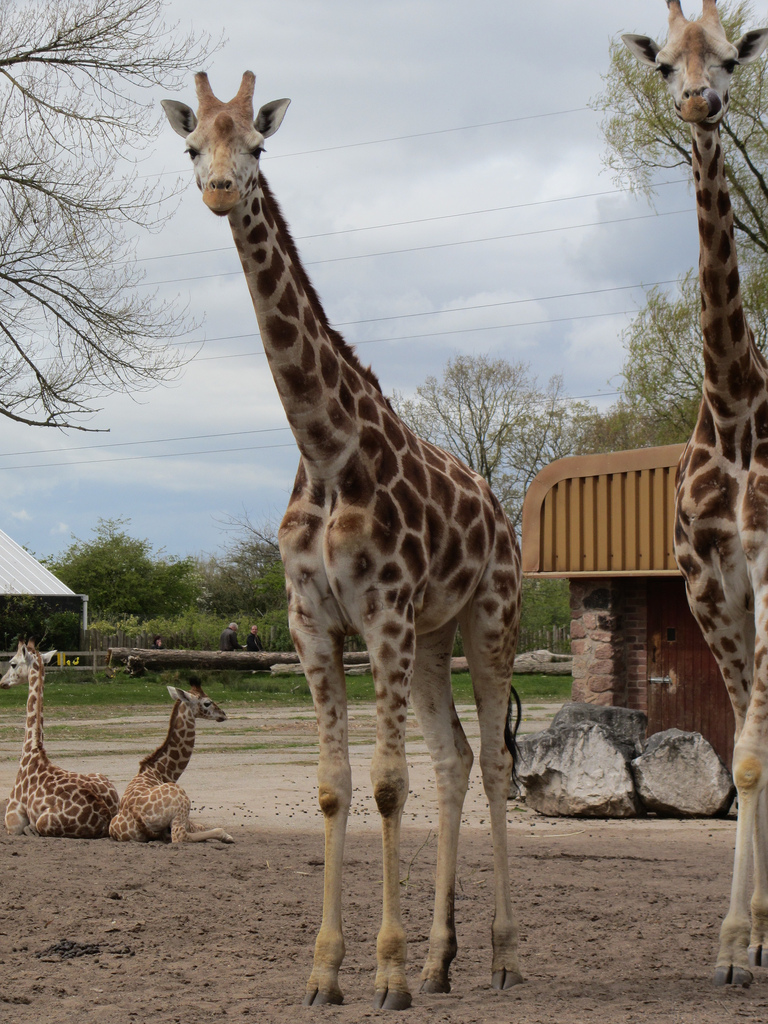giraffe: (154, 73, 601, 994), (617, 15, 768, 968), (121, 659, 241, 899), (10, 636, 140, 846)
